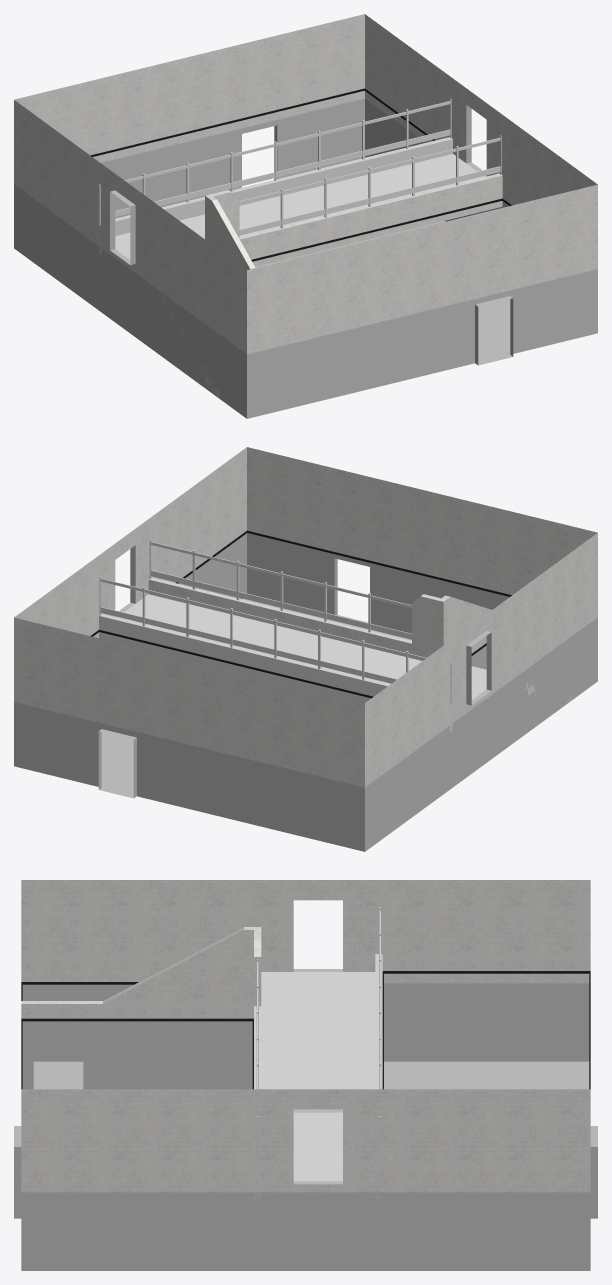
The model's file is Intro_Redo.fbx.
3 renders of one model, top to bottom at view 1: azimuth 30°, elevation 25°; view 2: azimuth 150°, elevation 25°; view 3: azimuth 270°, elevation 25°, orthographic. The views are drawn at different scales.
Parts seen in each view (by area): view 1: Plane, Plane.009, Plane.001, Plane.002, Cube.002, Cube.003, Cube.005, Cube.001, Cube.004, Plane.008, Plane.007, Cube (+1 smaller); view 2: Plane, Plane.001, Plane.009, Plane.002, Cube.002, Cube.003, Cube.005, Cube.001, Cube.004, Plane.007, Plane.008, Cube; view 3: Plane, Plane.001, Plane.004, Plane.009, Plane.007, Plane.008, Plane.002, Cube.001.
Part boxes in pixels (bbox=[...]): Plane: bbox=[14, 14, 597, 418]; Plane.009: bbox=[205, 173, 502, 340]; Plane.001: bbox=[102, 154, 484, 282]; Plane.002: bbox=[99, 137, 452, 255]; Cube.002: bbox=[115, 129, 450, 216]; Cube.003: bbox=[239, 166, 500, 235]; Cube.005: bbox=[124, 101, 450, 182]; Cube.001: bbox=[98, 98, 451, 225]; Cube.004: bbox=[239, 137, 500, 204]; Plane.008: bbox=[90, 88, 435, 156]; Plane.007: bbox=[251, 198, 511, 261]; Cube: bbox=[280, 135, 501, 228]; Plane: bbox=[14, 447, 597, 851]; Plane.001: bbox=[117, 594, 486, 722]; Plane.009: bbox=[148, 577, 491, 660]; Plane.002: bbox=[99, 613, 452, 732]; Cube.002: bbox=[100, 607, 397, 683]; Cube.003: bbox=[151, 570, 411, 639]; Cube.005: bbox=[100, 578, 426, 660]; Cube.001: bbox=[99, 576, 452, 702]; Cube.004: bbox=[151, 542, 411, 608]; Plane.007: bbox=[176, 530, 511, 596]; Plane.008: bbox=[90, 629, 373, 698]; Cube: bbox=[149, 539, 370, 632]; Plane: bbox=[14, 880, 597, 1270]; Plane.001: bbox=[261, 972, 375, 1191]; Plane.004: bbox=[22, 1021, 252, 1089]; Plane.009: bbox=[21, 927, 261, 1200]; Plane.007: bbox=[21, 1018, 253, 1089]; Plane.008: bbox=[382, 971, 590, 1089]; Plane.002: bbox=[375, 954, 382, 1200]; Cube.001: bbox=[379, 907, 381, 1165].
Bounding box in the file's own units: 20.6 × 23.6 × 8.1.
